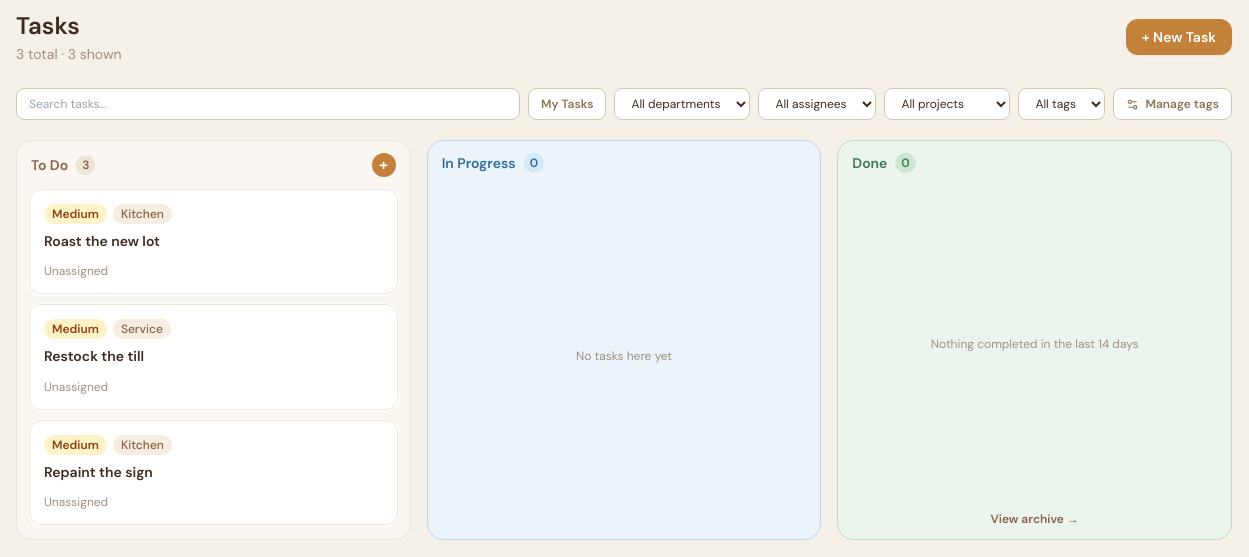
Test: project 筛选跟既有筛选是 AND,不是取代 › the project filter alone keeps both cards in that project and drops the other project
Expected: the element with test id "task-card-kitchen-task" is shown, [29, 189, 398, 294]
Select "Bean Sourcing" in the 3rd dropdown showing "All projects" at (947, 104), box [884, 88, 1010, 120]
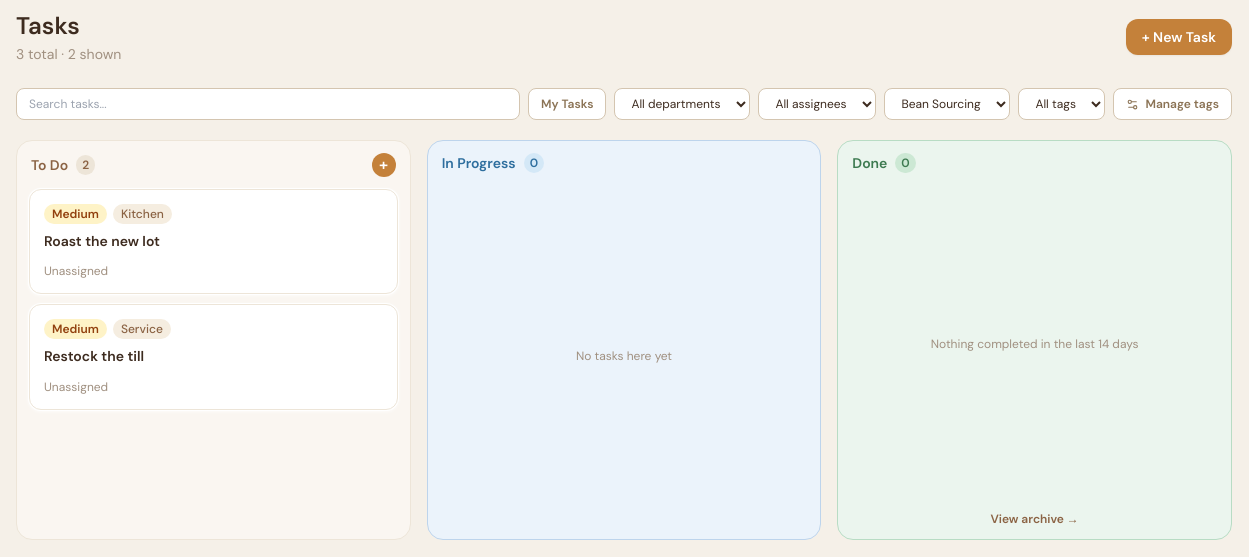
Expected: the text "Roast the new lot" is shown, [44, 232, 160, 250]
Now the text "Repaint the sign" is gone
